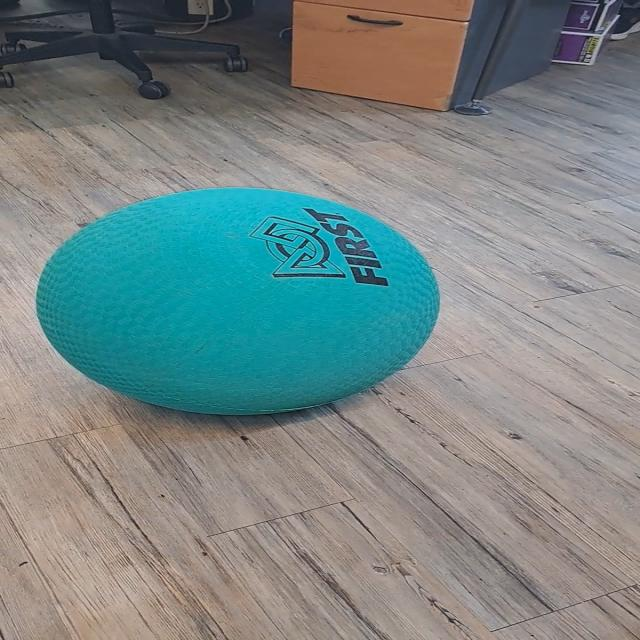ALGAE: (33, 186, 442, 417)
